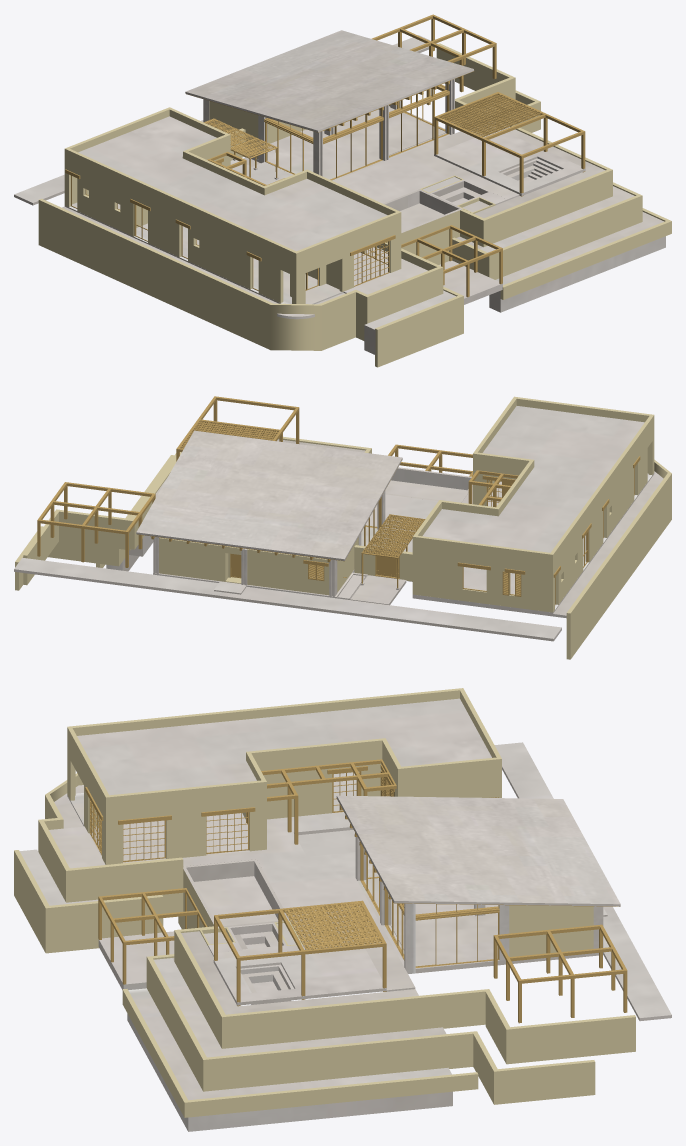
Rendered from Casona02.glb.
3 renders of one model, top to bottom at view 1: azimuth 30°, elevation 25°; view 2: azimuth 150°, elevation 25°; view 3: azimuth 270°, elevation 25°, orthographic. The views are drawn at different scales.
Visible parts, largest first — view 1: C02W_Wall, C02W_Floor, C02W_Concrete, C02W_Wood, C02W_Frames; view 2: C02W_Wall, C02W_Floor, C02W_Concrete, C02W_Wood, C02W_Frames; view 3: C02W_Wall, C02W_Floor, C02W_Concrete, C02W_Wood, C02W_Frames.
Part boxes in pixels (box(x1,y1,x2,y2)): C02W_Wall: box(38, 43, 671, 367); C02W_Floor: box(14, 35, 665, 354); C02W_Concrete: box(185, 30, 473, 179); C02W_Wood: box(65, 14, 585, 297); C02W_Frames: box(71, 83, 449, 290); C02W_Wall: box(15, 396, 671, 659); C02W_Floor: box(14, 406, 663, 641); C02W_Concrete: box(136, 430, 402, 596); C02W_Wood: box(37, 396, 640, 596); C02W_Frames: box(343, 467, 634, 604); C02W_Wall: box(14, 688, 635, 1117); C02W_Floor: box(20, 698, 671, 1131); C02W_Concrete: box(336, 795, 620, 973); C02W_Wood: box(85, 759, 627, 1023); C02W_Frames: box(89, 771, 499, 967).
Size of the model in its own units: 42.92 by 11.22 by 39.57.
Materials: 3 (1 with a texture image).
